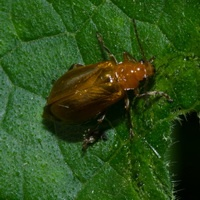insect: (44, 32, 154, 150)
